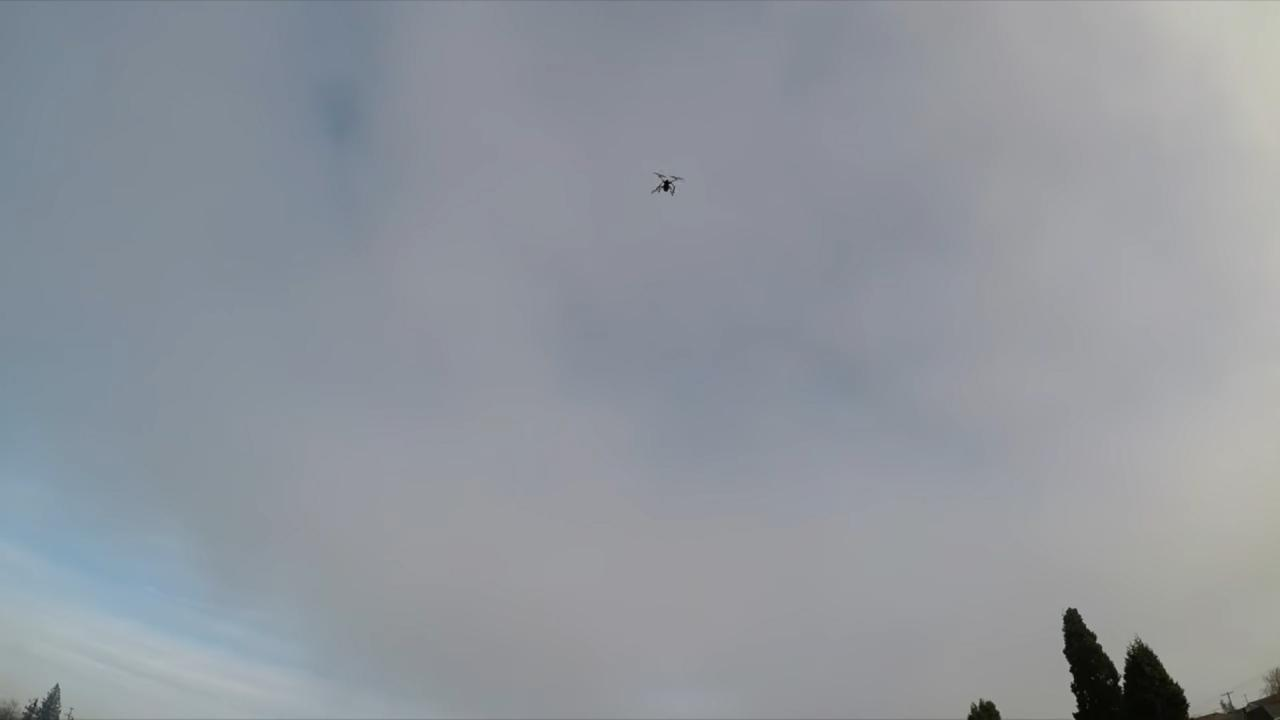Drone: (643, 164, 690, 204)
